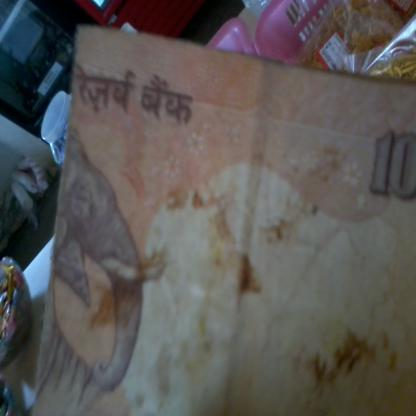Old10Back: (30, 21, 416, 416)
